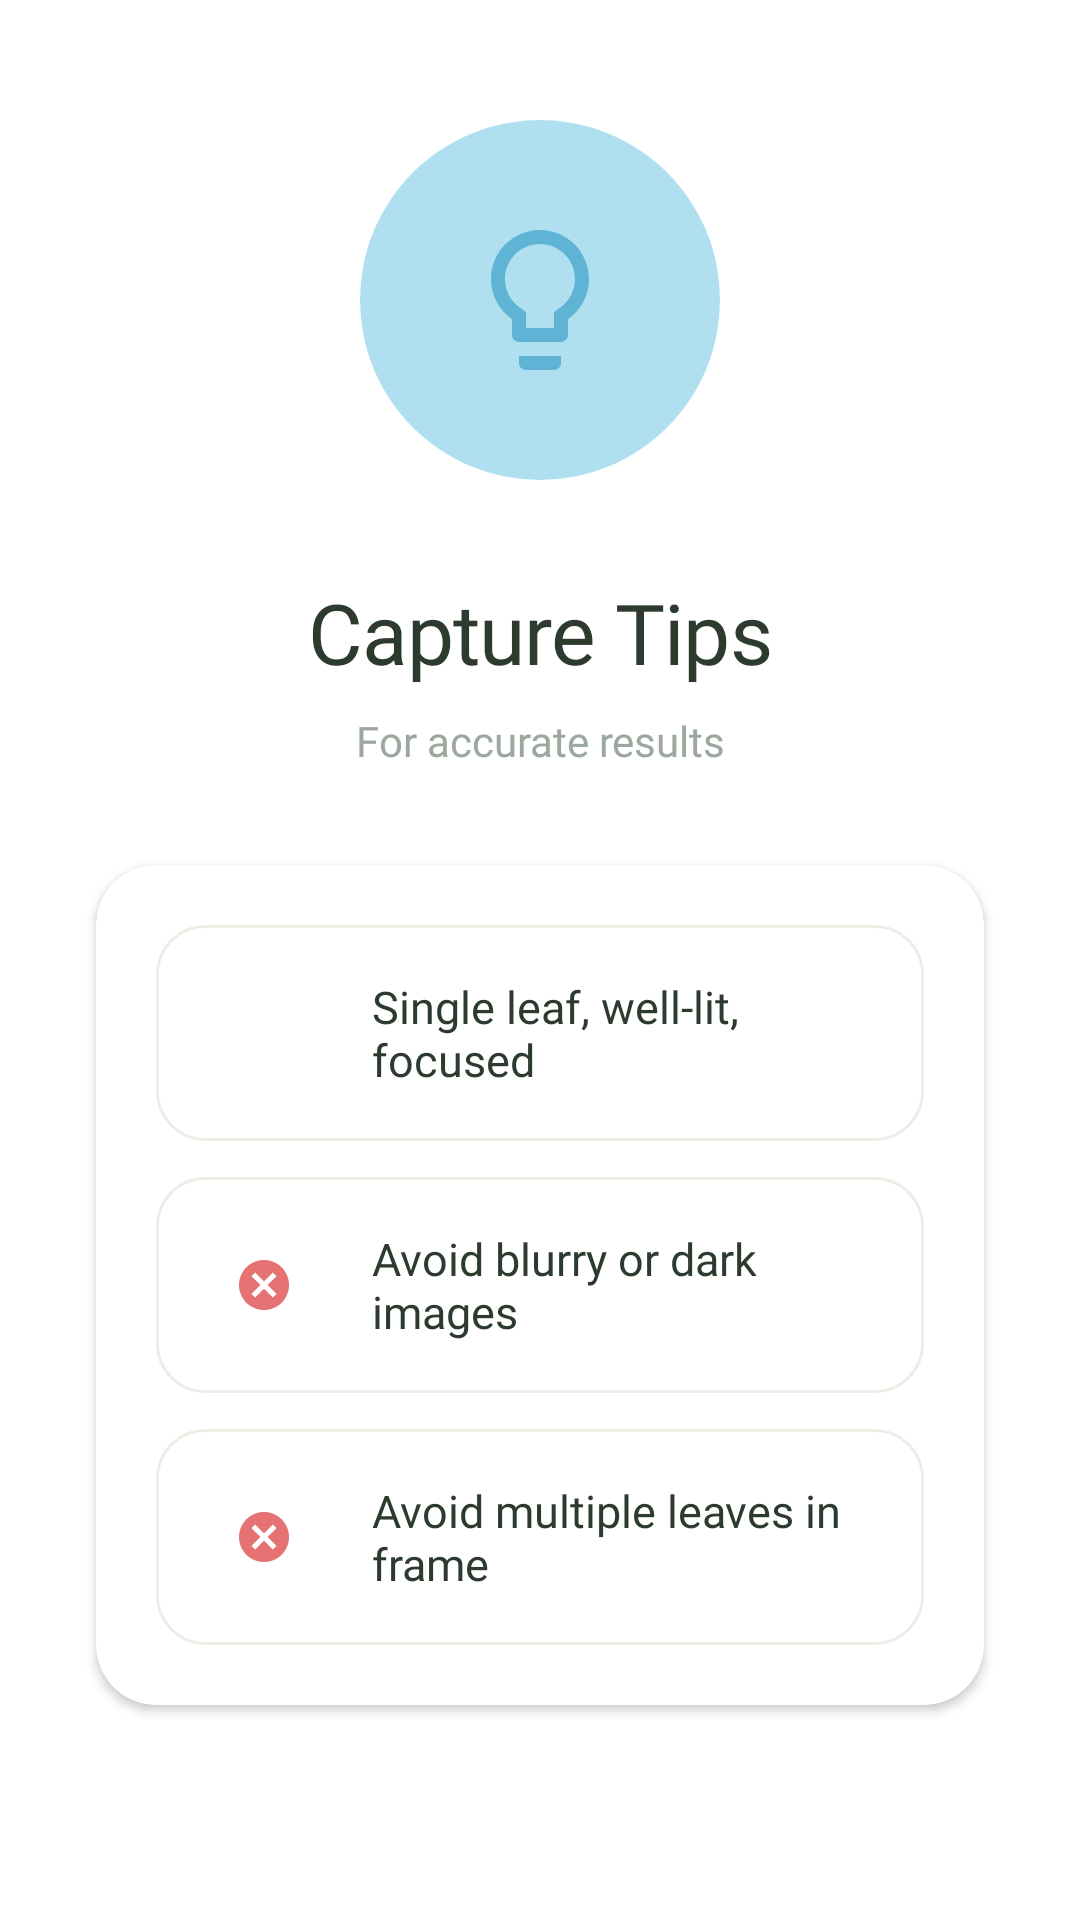

Locate icon controls on the screen. Image size 1080px×1920px, boxes as (left=x1, top=y1, right=x2, bottom=y2).
cancel circle: (left=239, top=1260, right=289, bottom=1310), (left=239, top=1512, right=289, bottom=1562)
lightbulb: (left=491, top=230, right=589, bottom=370)
